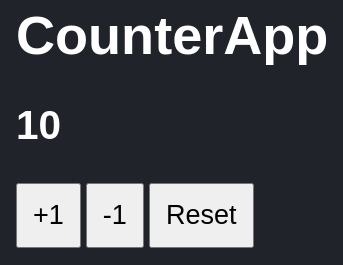
Test case: Pruebas en <CounterApp /> › debe de incrementar con el botón +1
Click the button "+1" at (48, 216), box [16,183,81,248]
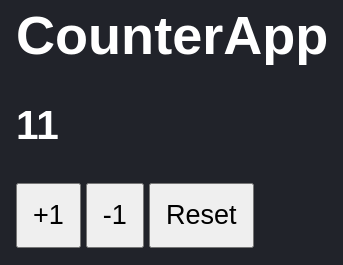
Now the heading "11" is shown, box [16,102,59,148]
